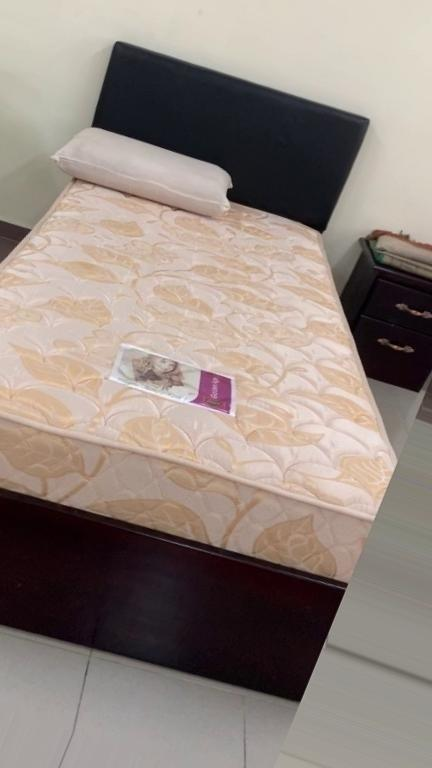bed: (0, 0, 382, 702)
table: (349, 217, 432, 392)
